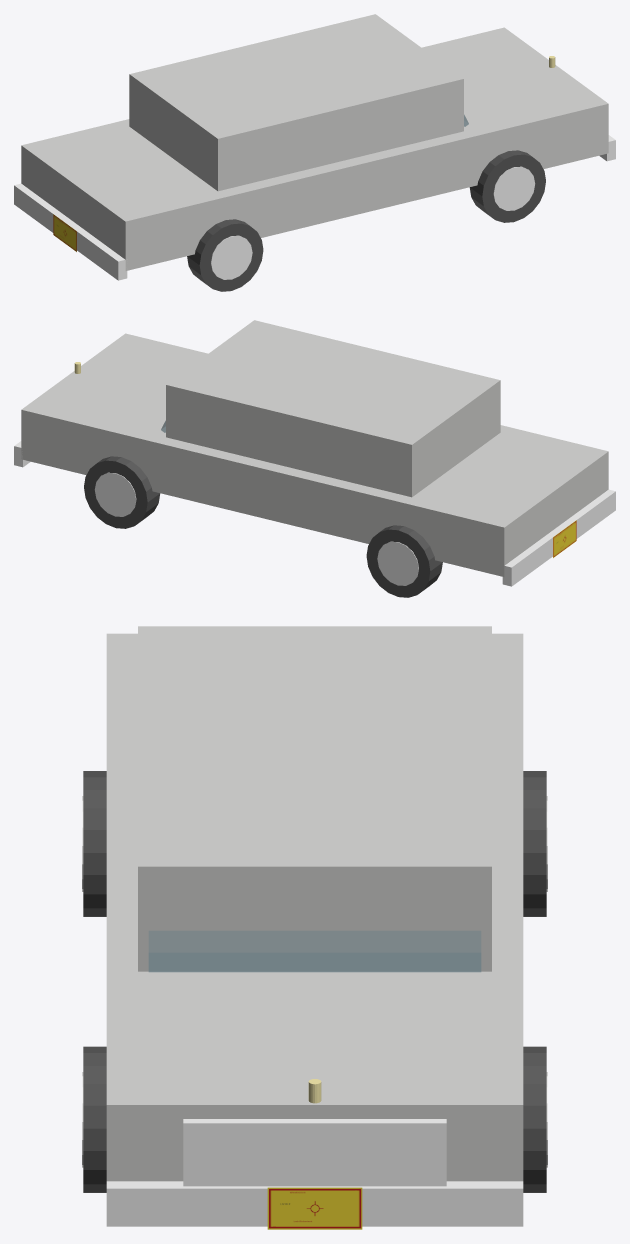
Rendered from cadillac_deville.glb.
3 renders of one model, top to bottom at view 1: azimuth 30°, elevation 25°; view 2: azimuth 150°, elevation 25°; view 3: azimuth 270°, elevation 25°, orthographic. The views are drawn at different scales.
Visible parts, largest first — view 1: Saul_Cadillac_body, Saul_Cadillac_cabin, Saul_Cadillac_wr_r_tire, Saul_Cadillac_wf_r_tire, Saul_Cadillac_br, Saul_Cadillac_wr_r_rim, Saul_Cadillac_wf_r_rim, Saul_Cadillac_plate_r; view 2: Saul_Cadillac_body, Saul_Cadillac_cabin, Saul_Cadillac_wr_l_tire, Saul_Cadillac_wf_l_tire, Saul_Cadillac_br, Saul_Cadillac_wr_l_rim, Saul_Cadillac_wf_l_rim, Saul_Cadillac_plate_r; view 3: Saul_Cadillac_cabin, Saul_Cadillac_body, Saul_Cadillac_grille, Saul_Cadillac_bf, Saul_Cadillac_ws, Saul_Cadillac_plate_f, Saul_Cadillac_wf_l_tire, Saul_Cadillac_wf_r_tire, Saul_Cadillac_wr_l_tire, Saul_Cadillac_wr_r_tire.
Boxes of the visible parts, x1,y1,x2,y2 form: Saul_Cadillac_body: (21,27,608,270); Saul_Cadillac_cabin: (129,14,463,191); Saul_Cadillac_wr_r_tire: (187,219,263,291); Saul_Cadillac_wf_r_tire: (469,150,545,222); Saul_Cadillac_br: (14,183,127,280); Saul_Cadillac_wr_r_rim: (211,235,252,279); Saul_Cadillac_wf_r_rim: (493,166,535,210); Saul_Cadillac_plate_r: (53,214,76,251); Saul_Cadillac_body: (21,333,608,576); Saul_Cadillac_cabin: (166,320,500,497); Saul_Cadillac_wr_l_tire: (366,525,442,597); Saul_Cadillac_wf_l_tire: (84,456,160,528); Saul_Cadillac_br: (502,489,615,586); Saul_Cadillac_wr_l_rim: (377,541,418,585); Saul_Cadillac_wf_l_rim: (94,472,136,516); Saul_Cadillac_plate_r: (553,520,576,557); Saul_Cadillac_cabin: (138,626,491,971); Saul_Cadillac_body: (106,633,523,1181); Saul_Cadillac_grille: (183,1119,446,1186); Saul_Cadillac_bf: (106,1181,523,1226); Saul_Cadillac_ws: (148,931,481,972); Saul_Cadillac_plate_f: (267,1187,362,1229); Saul_Cadillac_wf_l_tire: (523,1046,546,1192); Saul_Cadillac_wf_r_tire: (83,1046,106,1192); Saul_Cadillac_wr_l_tire: (523,771,546,916); Saul_Cadillac_wr_r_tire: (83,771,106,916).
Bounding box in the file's own units: 5.48 × 1.49 × 2.21.
8 materials, 1 textured.
